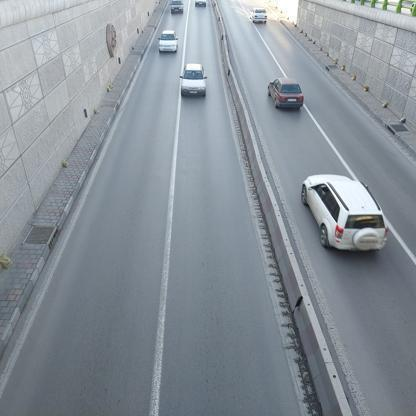Car: (299, 169, 389, 253), (265, 74, 308, 114), (177, 60, 215, 98), (162, 32, 178, 57), (167, 3, 185, 20), (251, 7, 267, 24), (195, 0, 212, 11)
